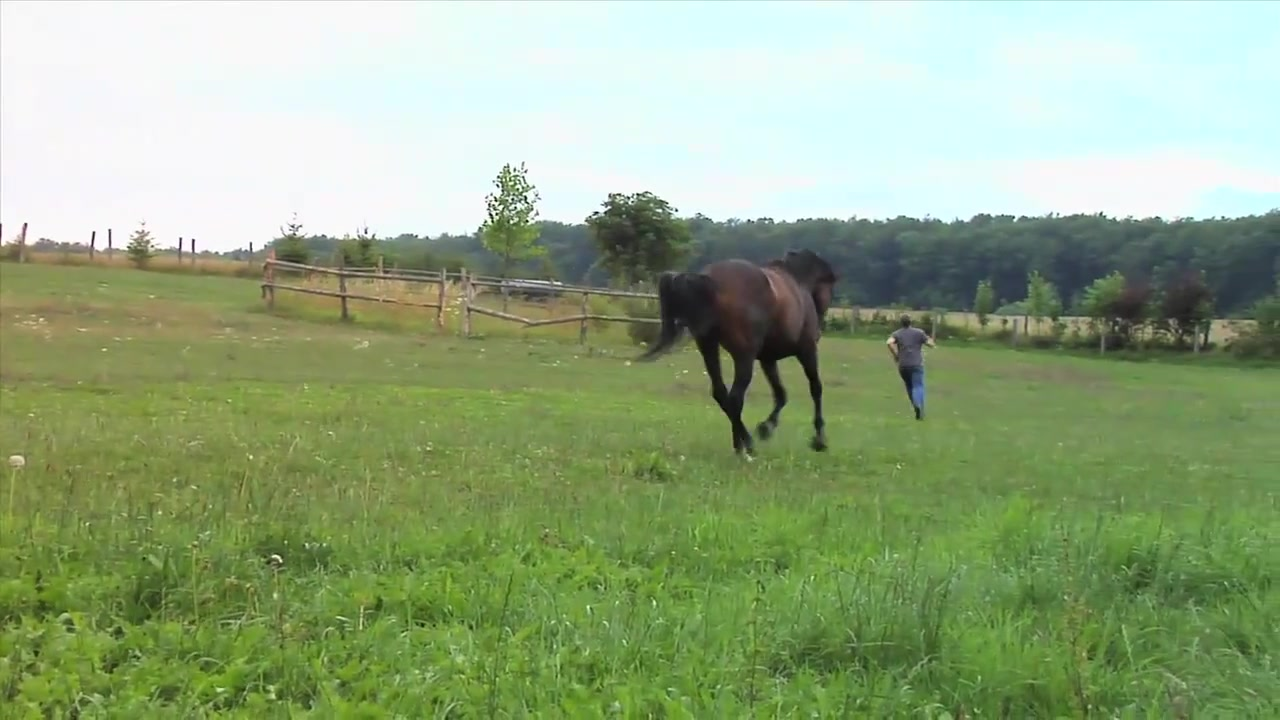horse: (641, 246, 844, 461)
